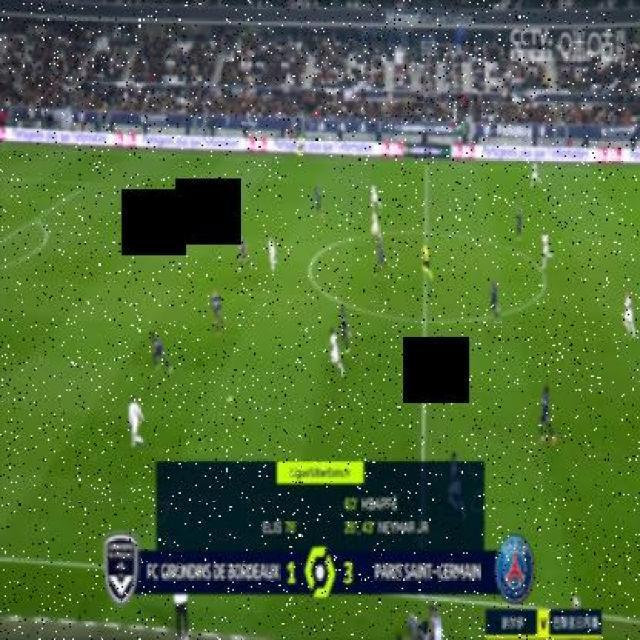player: (124, 389, 152, 451)
